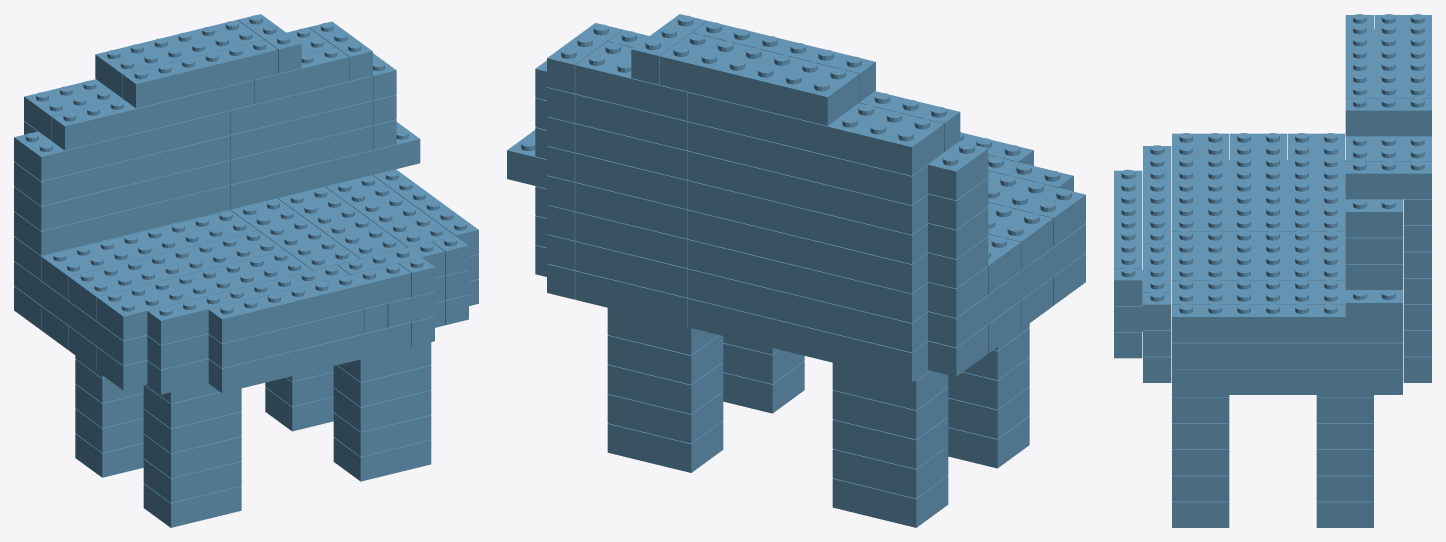
The model's file is 029_bed_L4.glb.
3 views of the same model, side by side, from view 1: azimuth 30°, elevation 25°; view 2: azimuth 150°, elevation 25°; view 3: azimuth 270°, elevation 25° (orthographic). The views are drawn at different scales.
Size of the model in its own units: 15.98 by 15.13 by 10.98.
